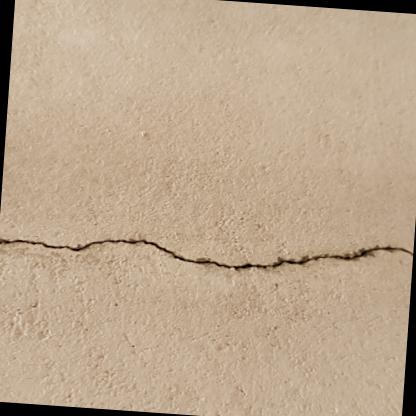crack: (0, 239, 413, 271)
